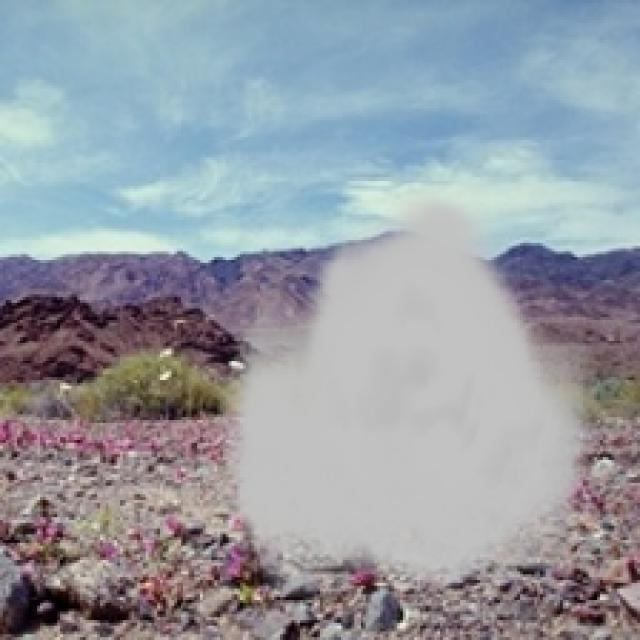Smoke: (217, 182, 606, 598)
